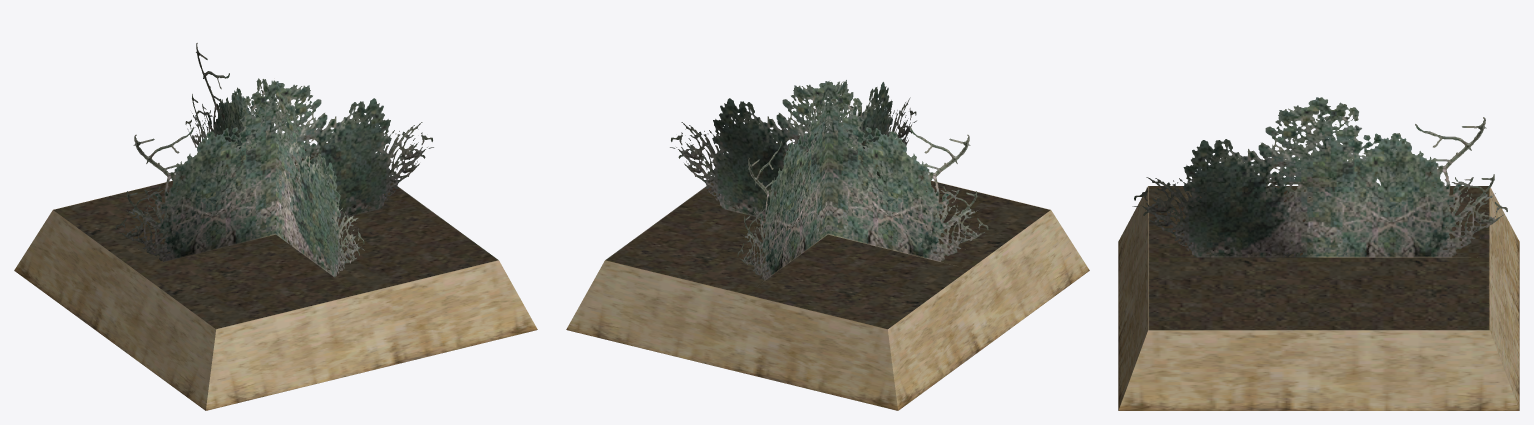
File: thm_tato_orchard_s01_l2.fbx
3 views of the same model, side by side, from view 1: azimuth 30°, elevation 25°; view 2: azimuth 150°, elevation 25°; view 3: azimuth 270°, elevation 25° (orthographic). The views are drawn at different scales.
Visible parts, largest first — view 1: mesh_node; view 2: mesh_node; view 3: mesh_node.
Part boxes in pixels (x1,y1,x2,y2): mesh_node: (14, 43, 537, 410); mesh_node: (566, 80, 1089, 410); mesh_node: (1118, 97, 1519, 410).
Bounding box in the file's own units: 8 × 5.07 × 8.
